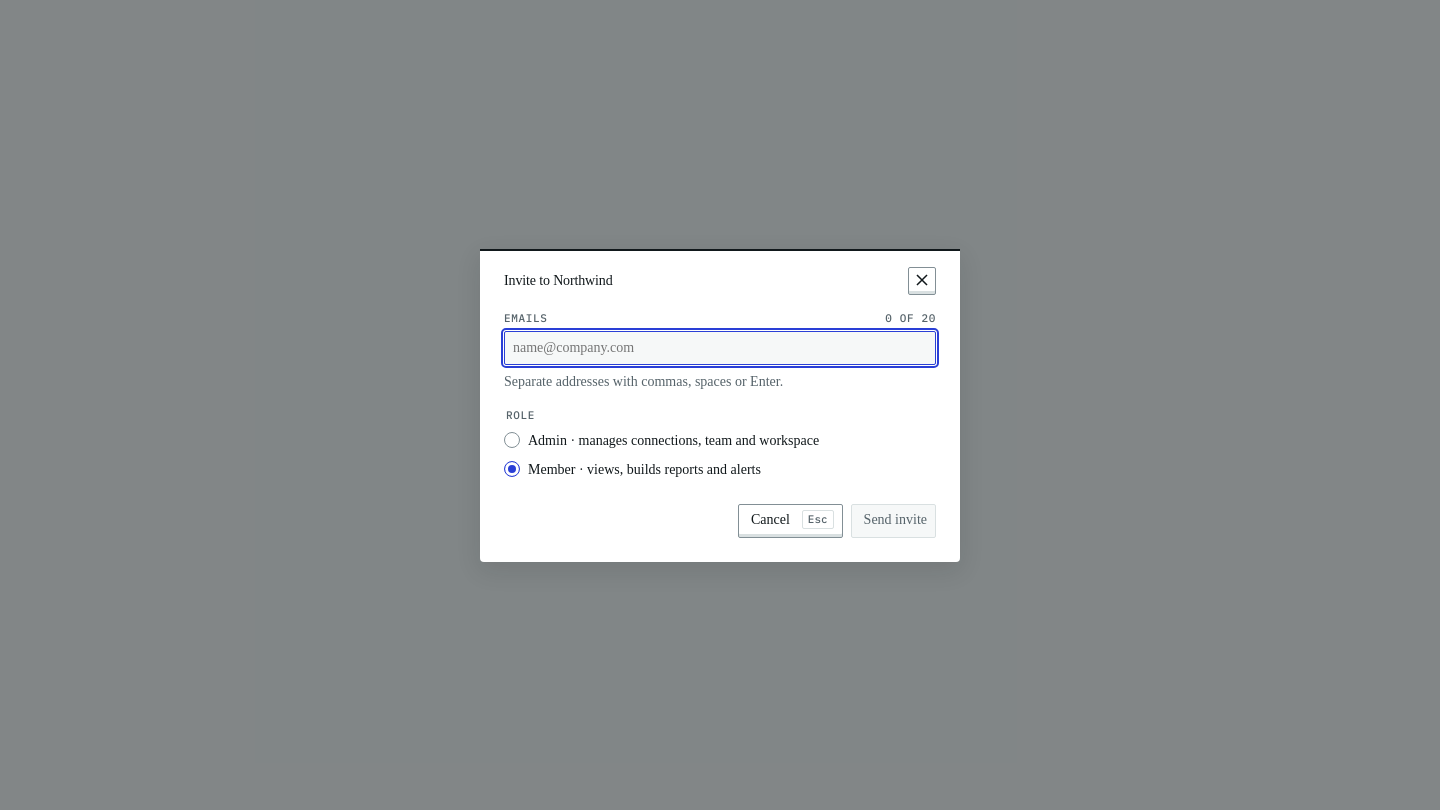
Test: InviteDialog › removes a token with its button or Backspace
Type "a@northwind.co b@northwind.co" into the field labelled "Emails". click: point(720, 348)
box: [511,336,929,360]
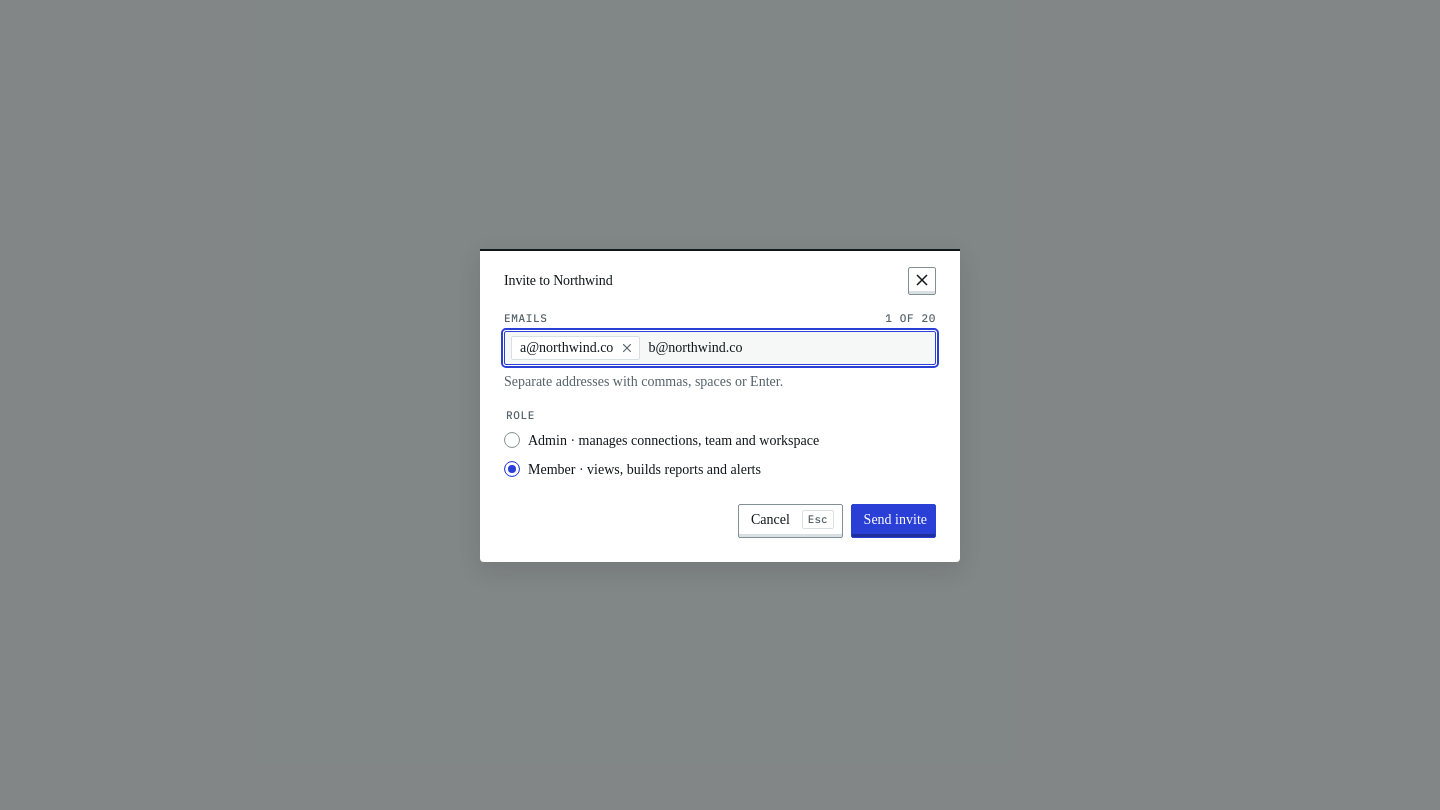
Press Enter in the field labelled "Emails", box [646,336,929,360]
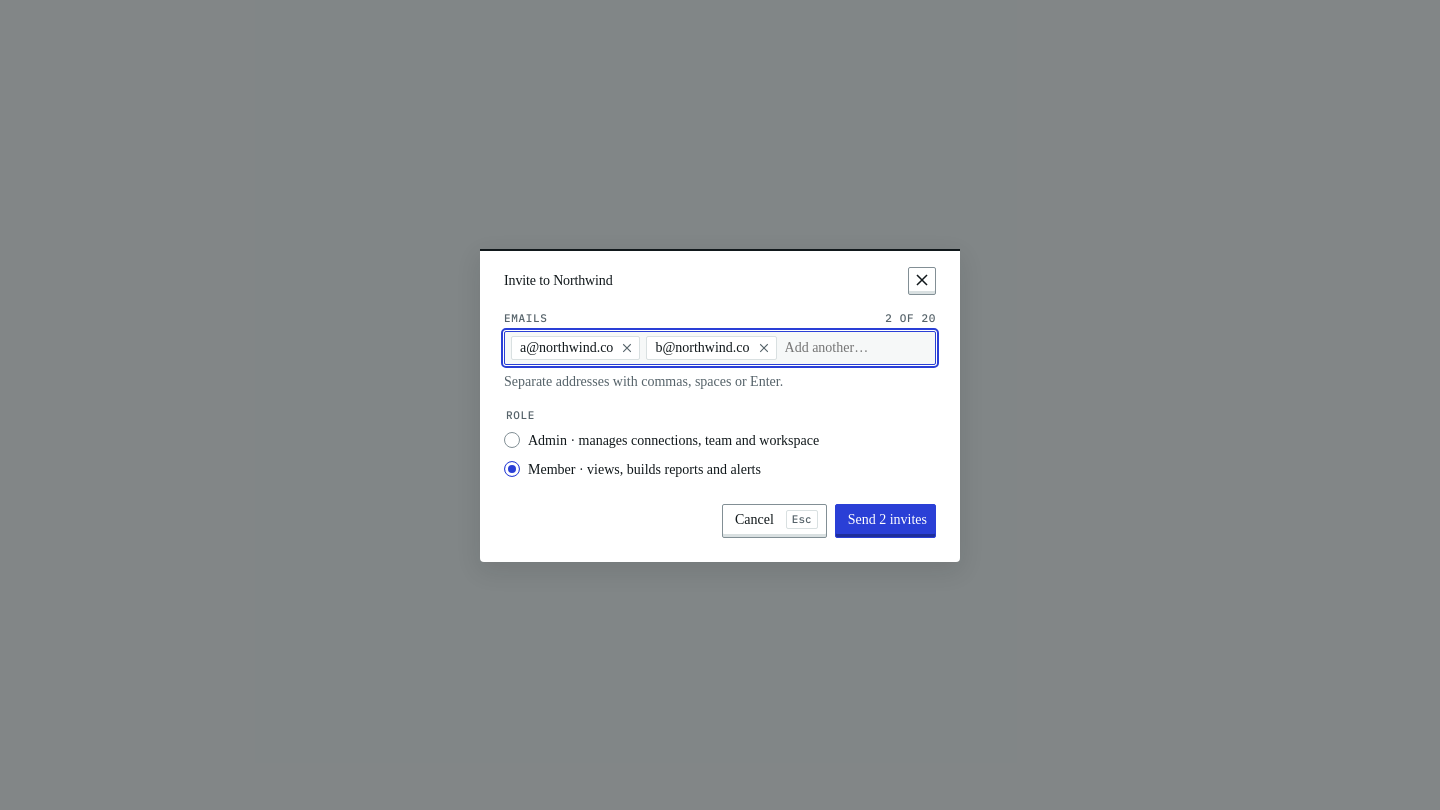
Click the button named "Remove a@northwind.co". click: point(627, 348)
box: [617,338,637,358]
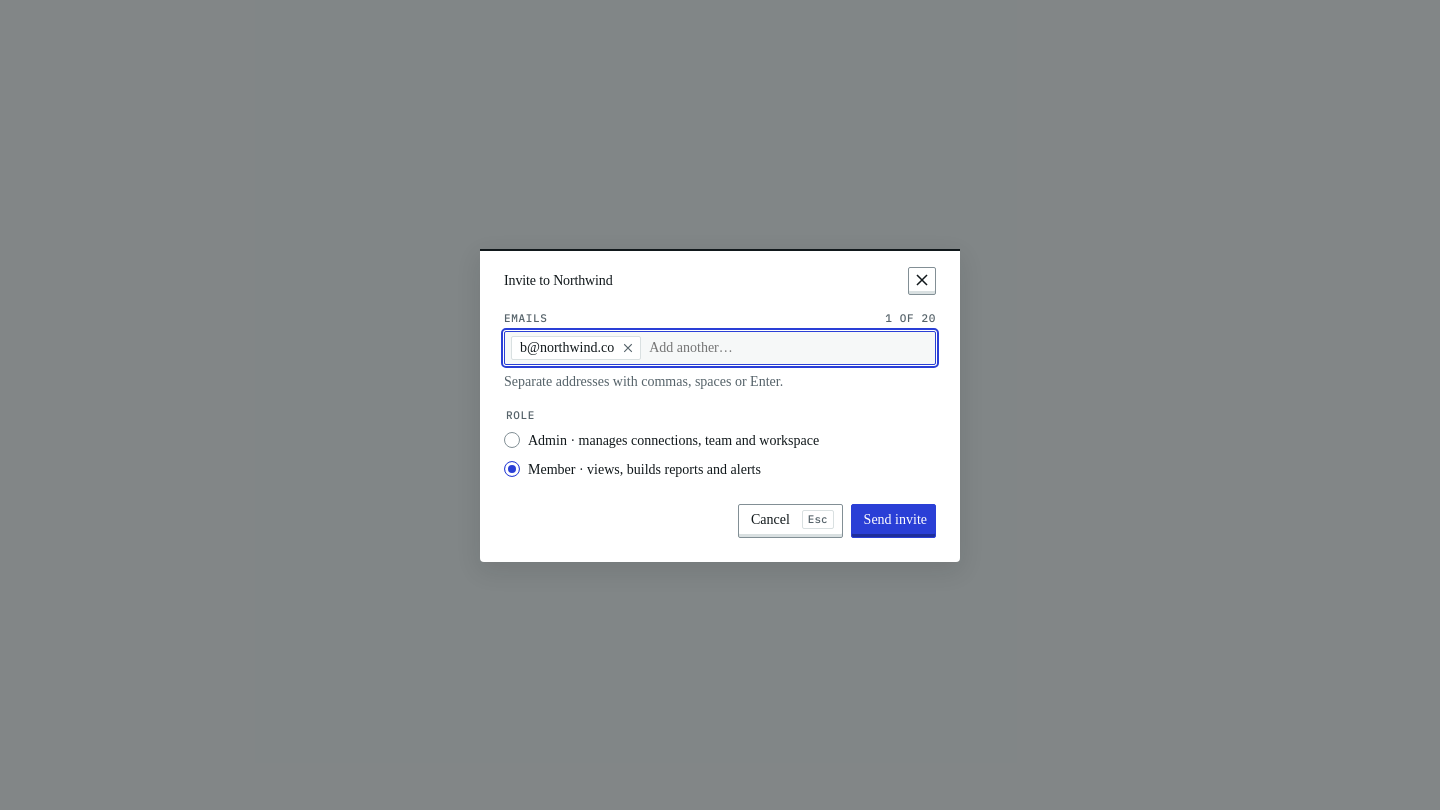
Press Backspace in the field labelled "Emails", box [647,336,929,360]
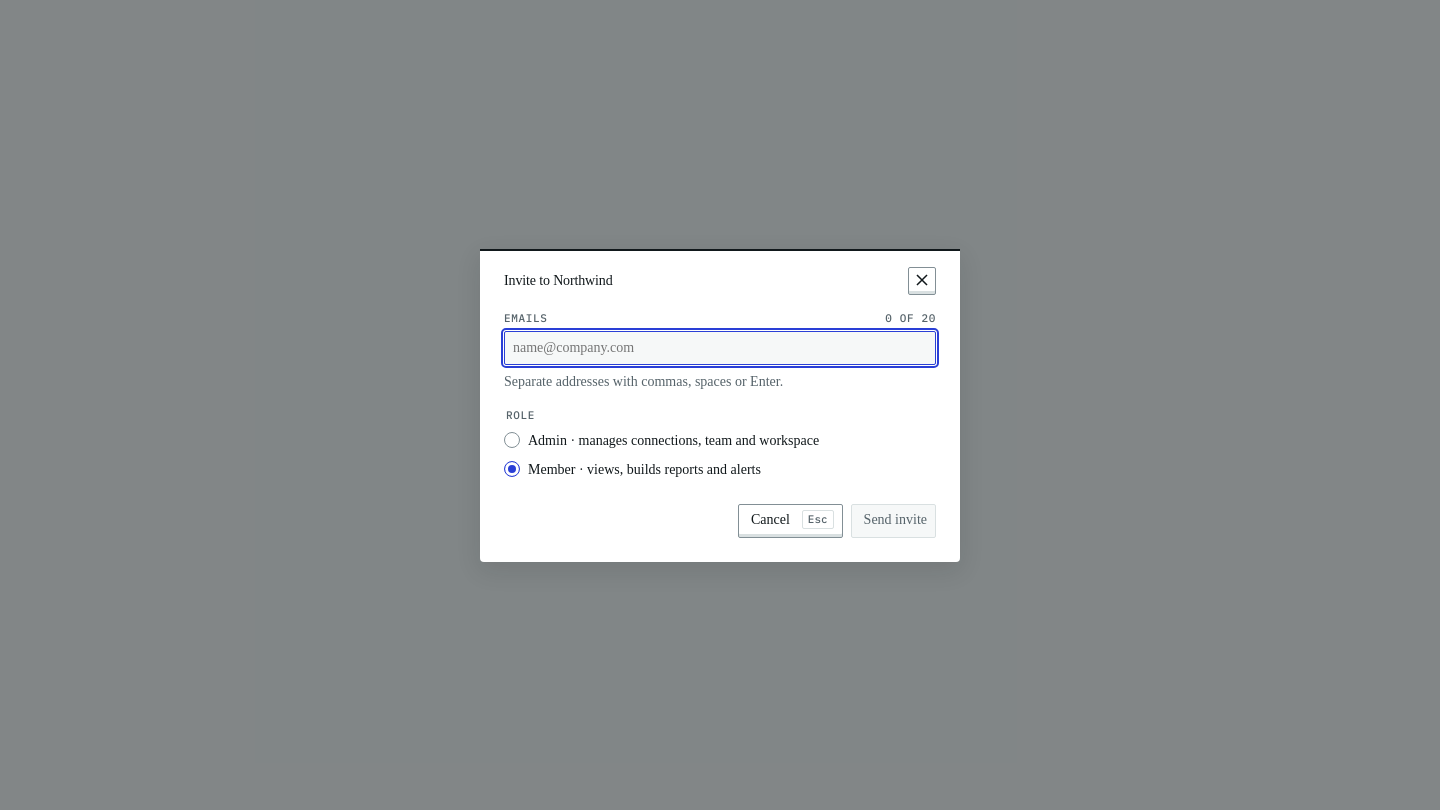
Expected: the text "a@northwind.co" is not shown
Now the text "b@northwind.co" is gone
